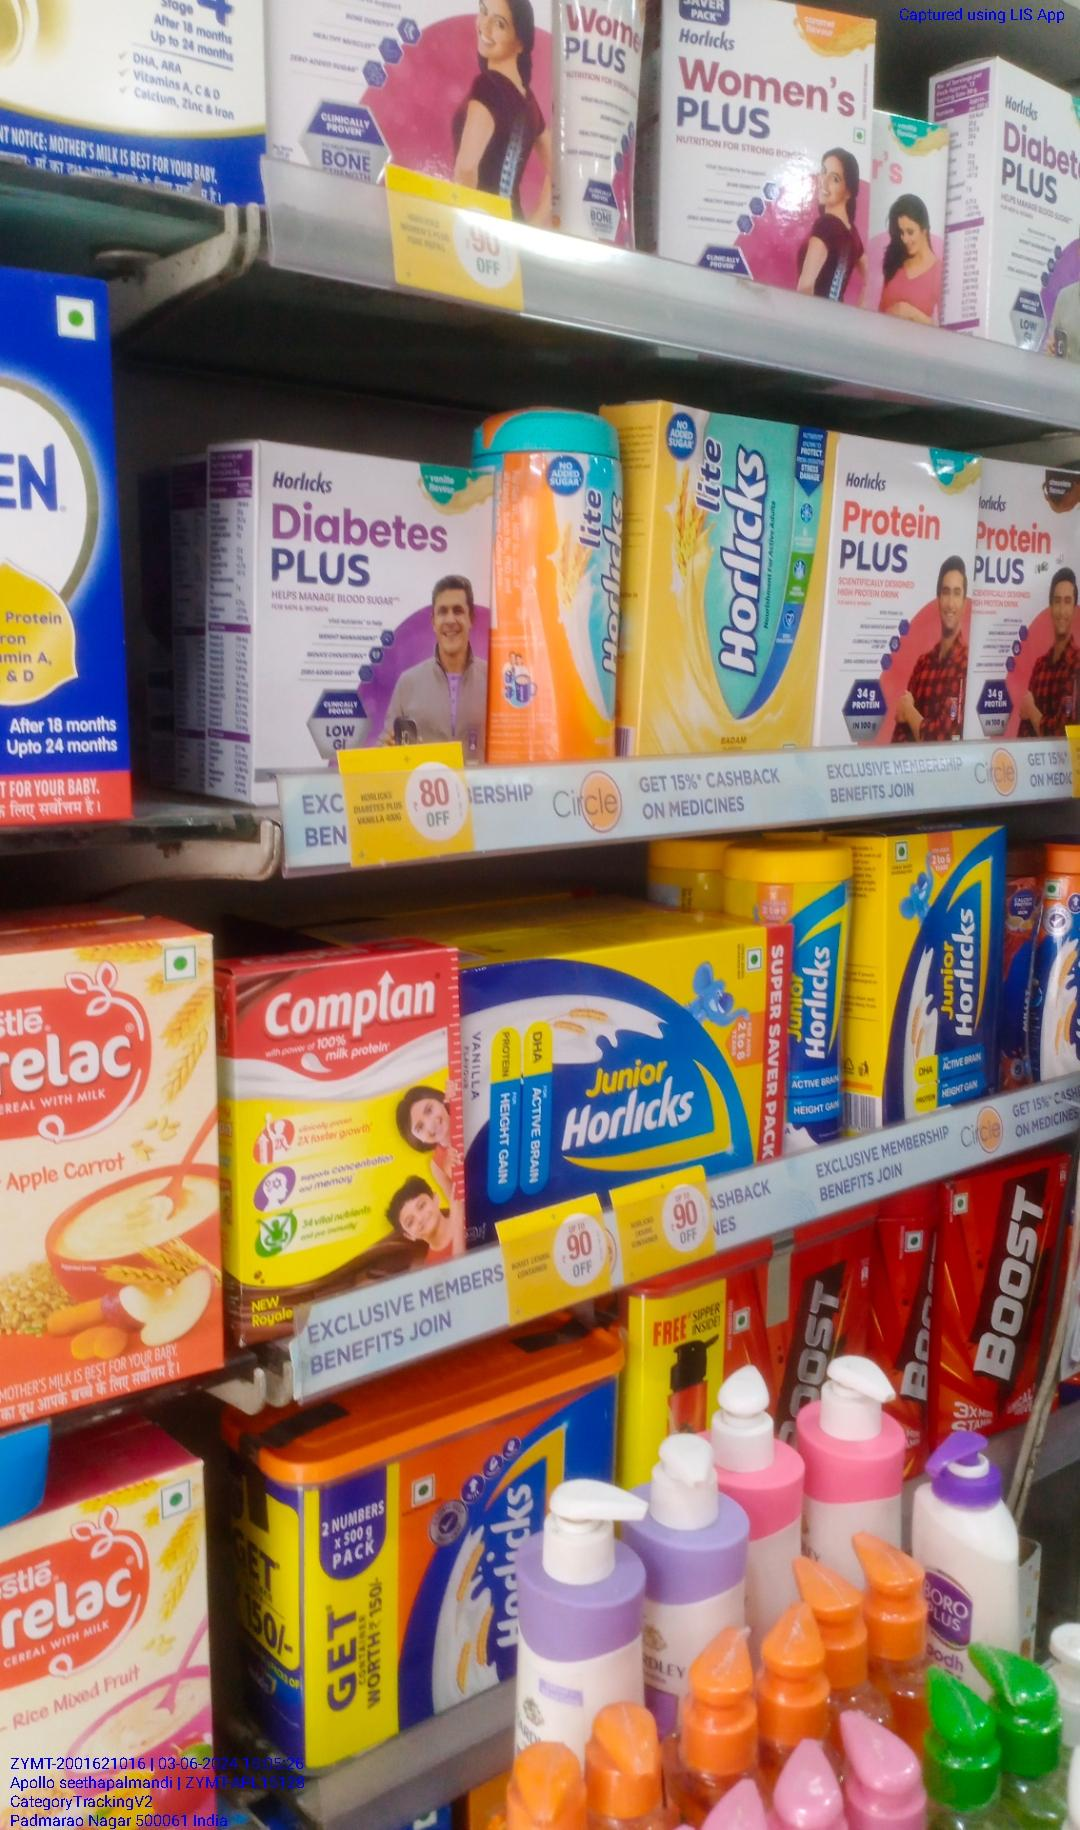COMPLAN_CHOCOLATE_500_GMS_PACK: (247, 972, 467, 1266)
HORLICKS_JUNIOR_VANILLA_500_GM_JAR: (788, 866, 850, 1153)
HORLICKS_LITE_REGULAR_MALT_500_GM_JAR: (490, 415, 616, 760)
HORLICK_MALT_1_KG_CONTAINER: (291, 1477, 510, 1730)
